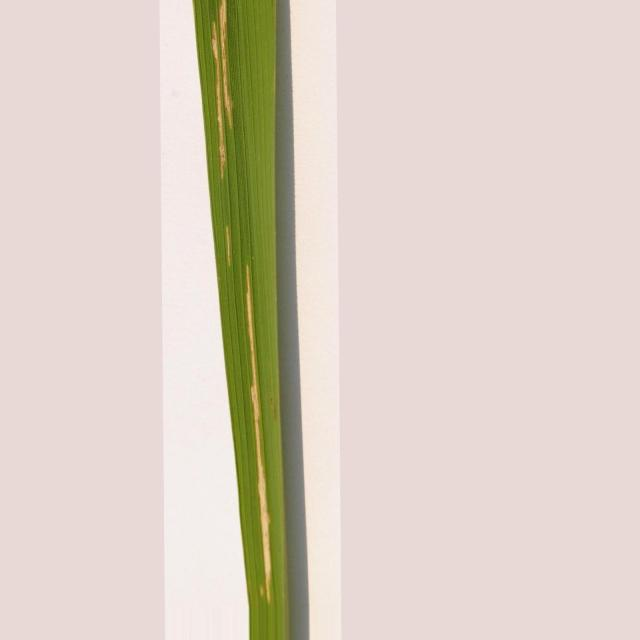Bacterial_Leaf_Blight: (248, 280, 271, 601), (211, 0, 232, 179), (225, 225, 231, 266)
